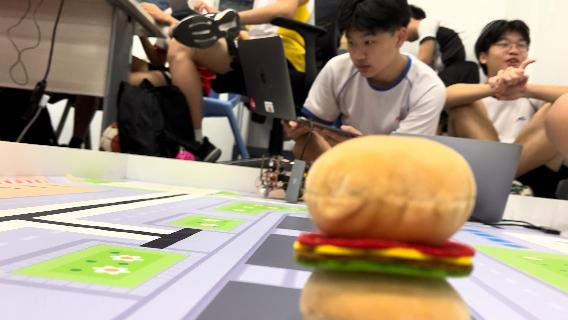burger: (290, 132, 480, 314)
